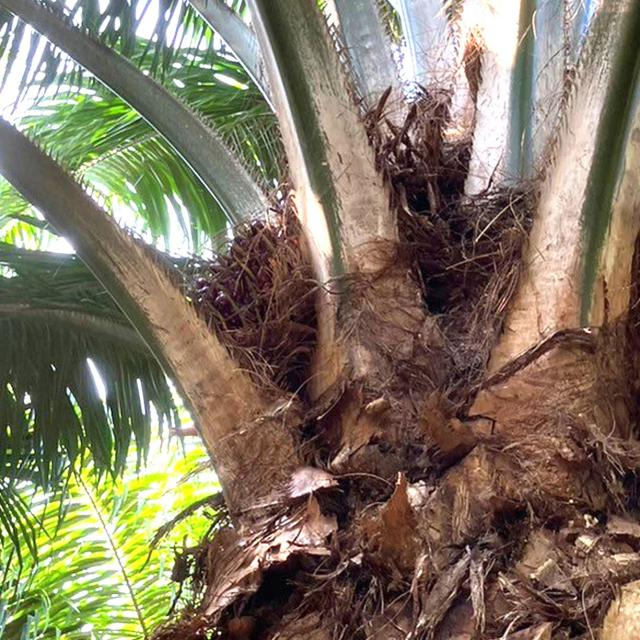ripe: (167, 190, 328, 397)
